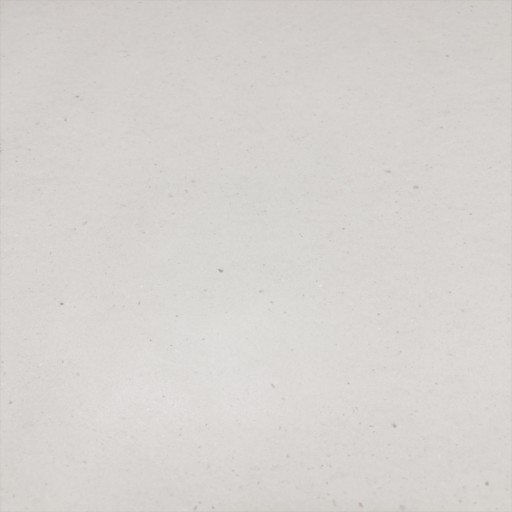lego: (229, 227, 283, 286)
